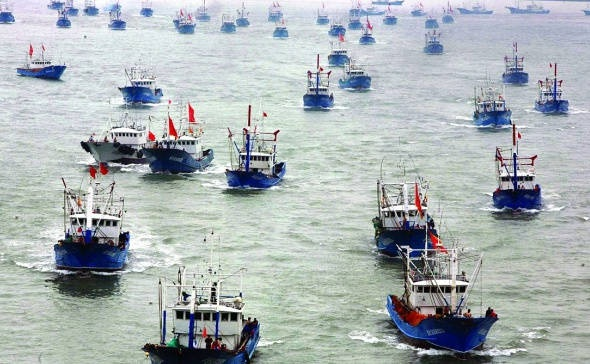otherboat: (139, 252, 265, 364), (384, 247, 498, 354), (44, 169, 134, 276), (370, 163, 443, 257), (140, 100, 210, 178), (223, 115, 291, 193), (487, 142, 547, 216), (82, 113, 147, 167), (13, 41, 66, 84), (114, 64, 165, 105), (471, 84, 516, 128), (301, 61, 340, 109), (532, 67, 570, 116), (338, 60, 374, 97), (503, 42, 530, 85), (327, 37, 353, 68), (505, 1, 551, 18), (457, 1, 496, 19), (422, 27, 444, 58), (100, 10, 128, 32), (357, 21, 380, 46), (218, 11, 238, 37), (177, 15, 199, 36), (233, 5, 253, 28), (267, 21, 291, 39), (418, 12, 443, 28), (55, 10, 73, 32), (325, 20, 349, 33), (382, 11, 401, 27)
